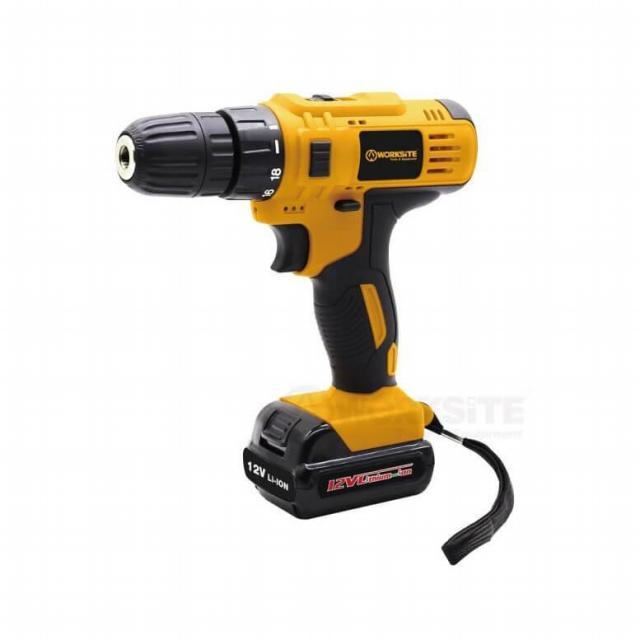drill: (115, 90, 479, 520)
